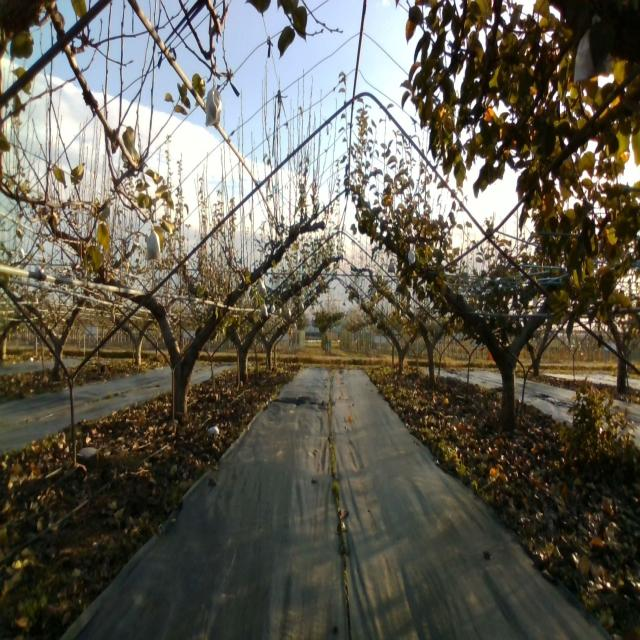pearbags: (204, 78, 222, 126), (145, 222, 162, 262)
